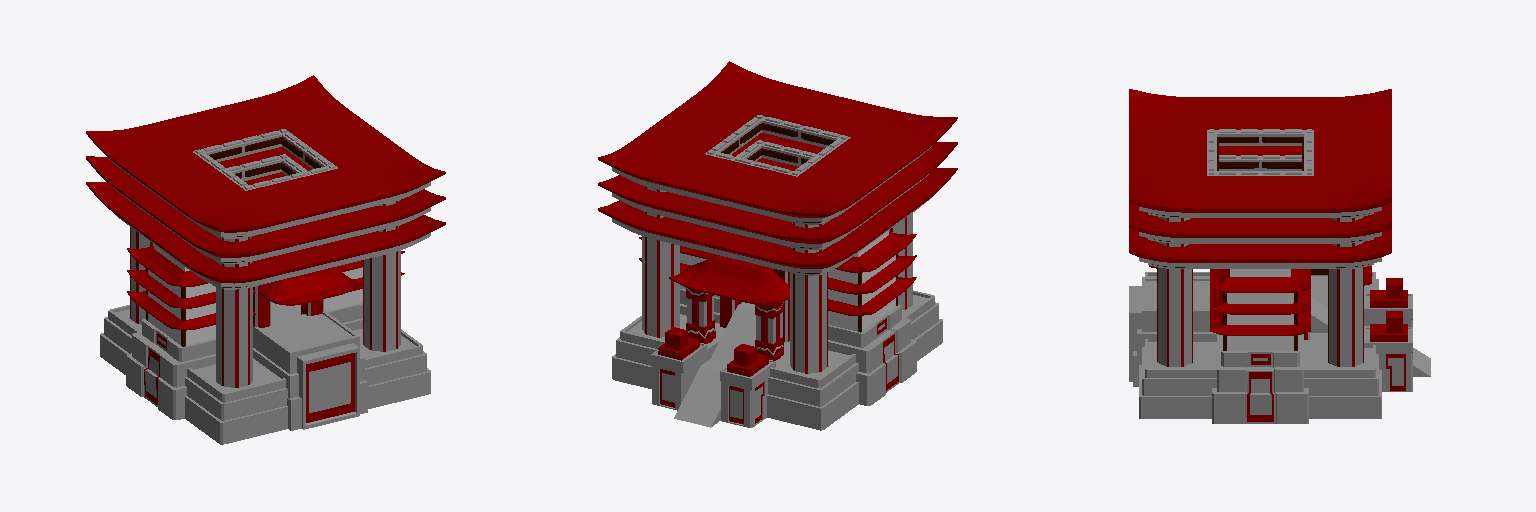
File: JapaneseTemple.obj
3 views of the same model, side by side, from view 1: azimuth 30°, elevation 25°; view 2: azimuth 150°, elevation 25°; view 3: azimuth 270°, elevation 25° (orthographic).
Visible parts, largest first — view 1: main_roof_Plane.001, base_Cube, building_base_Cube.003, main_pillars_Cylinder, art_piece_Cube.004, building_roof_Plane, buildings_Cube.009, back_roof_Plane.003, inside_pillars_Cube.007; view 2: main_roof_Plane.001, base_Cube, building_base_Cube.003, main_pillars_Cylinder, building_roof_Plane, entrance_roof_Plane.002, entrance_pillars_Cube.008, buildings_Cube.009, inside_pillars_Cube.007; view 3: main_roof_Plane.001, base_Cube, building_base_Cube.003, main_pillars_Cylinder, building_roof_Plane, buildings_Cube.009, art_piece_Cube.004.
Boxes of the visible parts, box(x1,y1,x2,y2) form: main_roof_Plane.001: box(86, 75, 445, 289); base_Cube: box(100, 305, 430, 444); building_base_Cube.003: box(126, 302, 367, 430); main_pillars_Cylinder: box(130, 200, 400, 387); art_piece_Cube.004: box(297, 343, 359, 429); building_roof_Plane: box(127, 246, 404, 330); buildings_Cube.009: box(146, 244, 362, 346); back_roof_Plane.003: box(259, 267, 362, 305); inside_pillars_Cube.007: box(253, 284, 323, 327); main_roof_Plane.001: box(598, 61, 957, 275); base_Cube: box(612, 290, 942, 430); building_base_Cube.003: box(674, 289, 916, 427); main_pillars_Cylinder: box(642, 186, 912, 373); building_roof_Plane: box(639, 232, 916, 315); entrance_roof_Plane.002: box(669, 255, 789, 304); entrance_pillars_Cube.008: box(686, 287, 783, 360); buildings_Cube.009: box(680, 231, 897, 332); inside_pillars_Cube.007: box(720, 268, 789, 342); main_roof_Plane.001: box(1129, 89, 1391, 268); base_Cube: box(1139, 272, 1412, 418); building_base_Cube.003: box(1133, 277, 1430, 423); main_pillars_Cylinder: box(1157, 216, 1363, 366); building_roof_Plane: box(1210, 269, 1310, 335); buildings_Cube.009: box(1223, 269, 1297, 350); art_piece_Cube.004: box(1129, 286, 1141, 381).
Size of the model in its own units: 4.4 by 4.05 by 4.96.